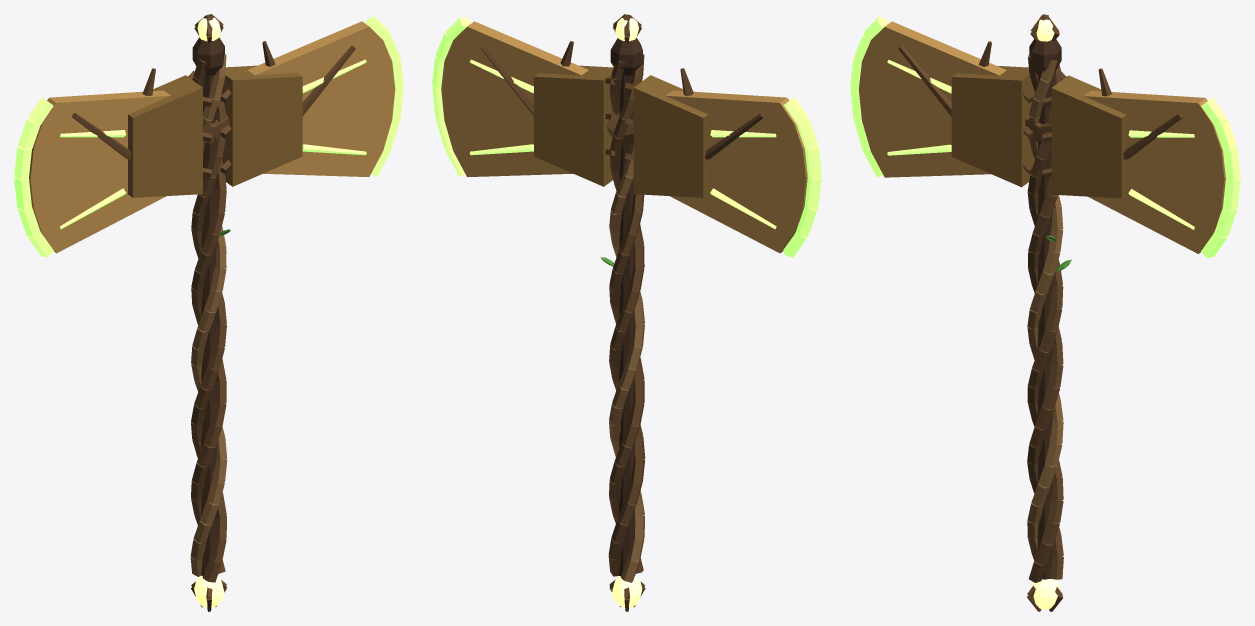
File: roots_great_axe.glb
The picture shows the model from 3 angles, left to right: view 1: azimuth 30°, elevation 25°; view 2: azimuth 150°, elevation 25°; view 3: azimuth 330°, elevation 25°; orthographic projection.
Parts seen in each view (by area): view 1: roots_great_axe; view 2: roots_great_axe; view 3: roots_great_axe.
Part boxes in pixels (box(x1,y1,x2,y2)): roots_great_axe: box(14, 14, 403, 611); roots_great_axe: box(432, 14, 821, 611); roots_great_axe: box(850, 14, 1240, 611).
Bounding box in the file's own units: 1.28 × 1.87 × 0.1089.
